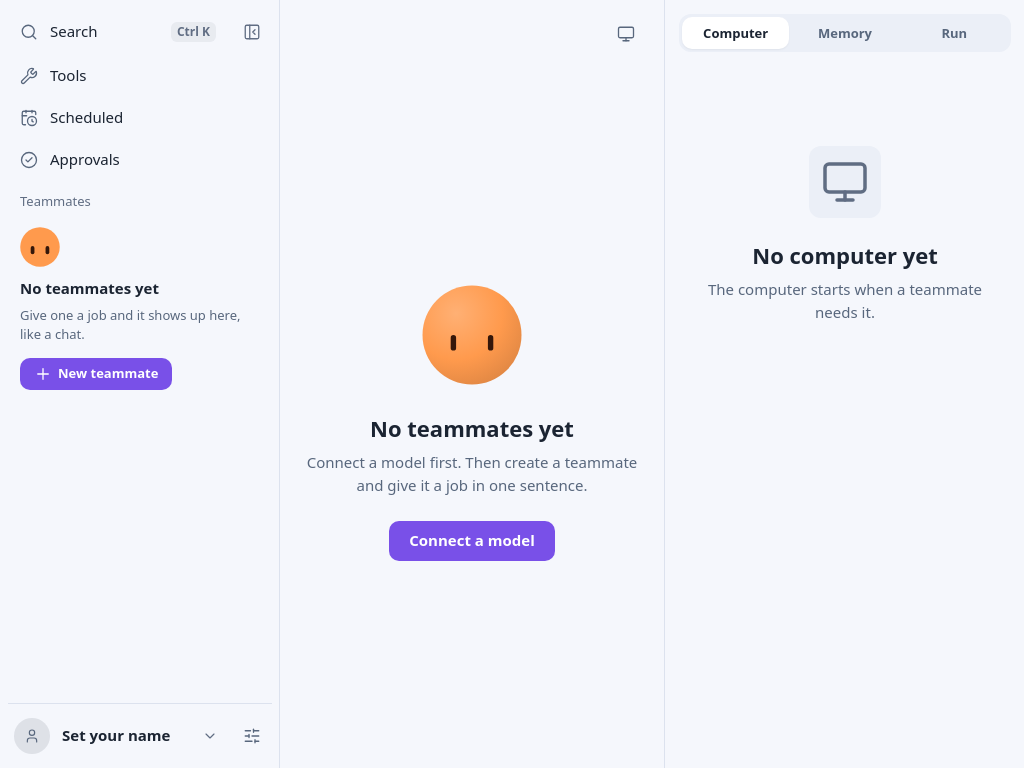
Test: teammates landing › points to model settings from the new teammate button when nothing is connected
Click the button "New teammate". click: x=96, y=374
box: [20,358,172,390]
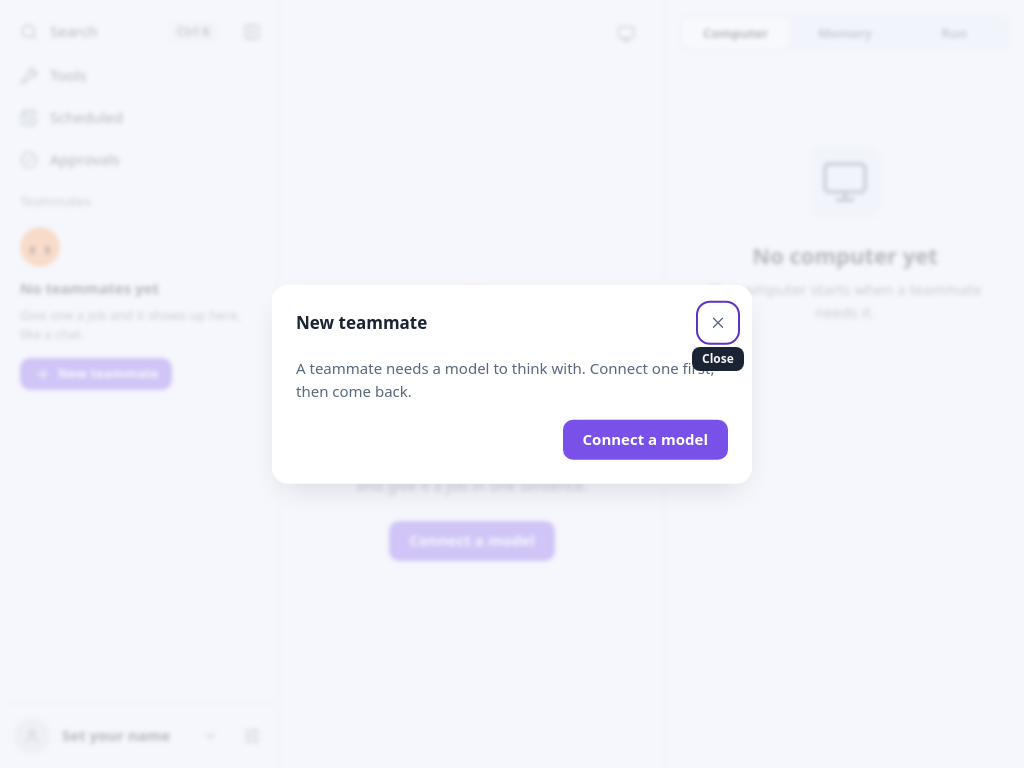
Result: the link "Connect a model" is shown at [562,419,728,459]
